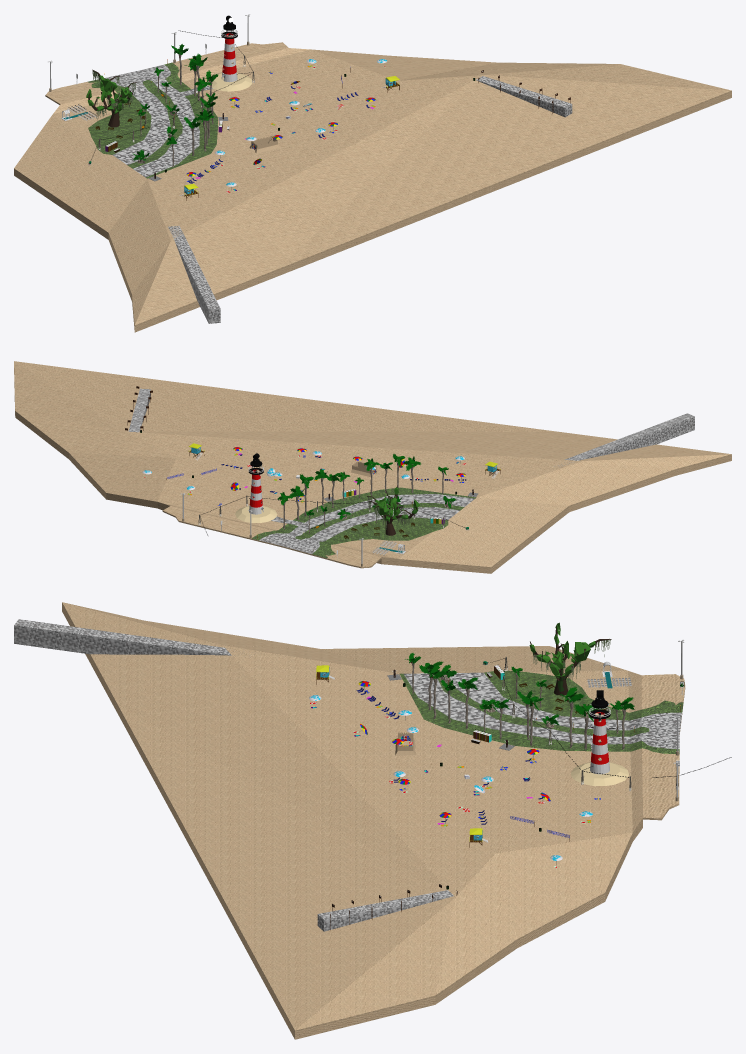
The model's file is Beach.glb.
The picture shows the model from 3 angles, top to bottom: view 1: azimuth 30°, elevation 25°; view 2: azimuth 150°, elevation 25°; view 3: azimuth 270°, elevation 25°; orthographic projection. The views are drawn at different scales.
Parts seen in each view (by area): view 1: Beach Ground, Beach Ground.001, Breaker.001, Branches, Breaker, Palm Tree Trunks, Leaves, Body, Base; view 2: Beach Ground, Beach Ground.001, Breaker.001, Branches, Palm Tree Trunks, Breaker, Leaves, Base, Body, Trunk.004; view 3: Beach Ground, Beach Ground.001, Breaker.001, Branches, Breaker, Palm Tree Trunks, Leaves, Body, Base.
Part boxes in pixels (x1=…): Beach Ground: x1=14, y1=48, x2=731, y2=332; Beach Ground.001: x1=45, y1=42, x2=288, y2=104; Breaker.001: x1=168, y1=225, x2=220, y2=323; Branches: x1=132, y1=44, x2=218, y2=160; Breaker: x1=476, y1=76, x2=572, y2=117; Palm Tree Trunks: x1=137, y1=51, x2=213, y2=167; Leaves: x1=86, y1=75, x2=131, y2=113; Body: x1=221, y1=33, x2=237, y2=82; Base: x1=207, y1=73, x2=252, y2=91; Beach Ground: x1=14, y1=361, x2=731, y2=573; Beach Ground.001: x1=162, y1=506, x2=381, y2=568; Breaker.001: x1=554, y1=413, x2=694, y2=467; Branches: x1=277, y1=454, x2=456, y2=519; Palm Tree Trunks: x1=283, y1=459, x2=452, y2=529; Breaker: x1=128, y1=388, x2=150, y2=432; Leaves: x1=375, y1=487, x2=419, y2=522; Base: x1=235, y1=506, x2=277, y2=522; Body: x1=249, y1=469, x2=263, y2=514; Trunk.004: x1=367, y1=485, x2=417, y2=535; Beach Ground: x1=62, y1=602, x2=642, y2=1039; Beach Ground.001: x1=641, y1=674, x2=685, y2=820; Breaker.001: x1=14, y1=619, x2=249, y2=655; Branches: x1=405, y1=653, x2=634, y2=725; Breaker: x1=317, y1=890, x2=453, y2=931; Palm Tree Trunks: x1=411, y1=661, x2=625, y2=749; Leaves: x1=529, y1=622, x2=595, y2=678; Body: x1=590, y1=712, x2=609, y2=774; Base: x1=571, y1=762, x2=628, y2=786.
Size of what is drawn, in the model's own units: 303 by 36.63 by 215.
Materials: 149 (9 with a texture image).
